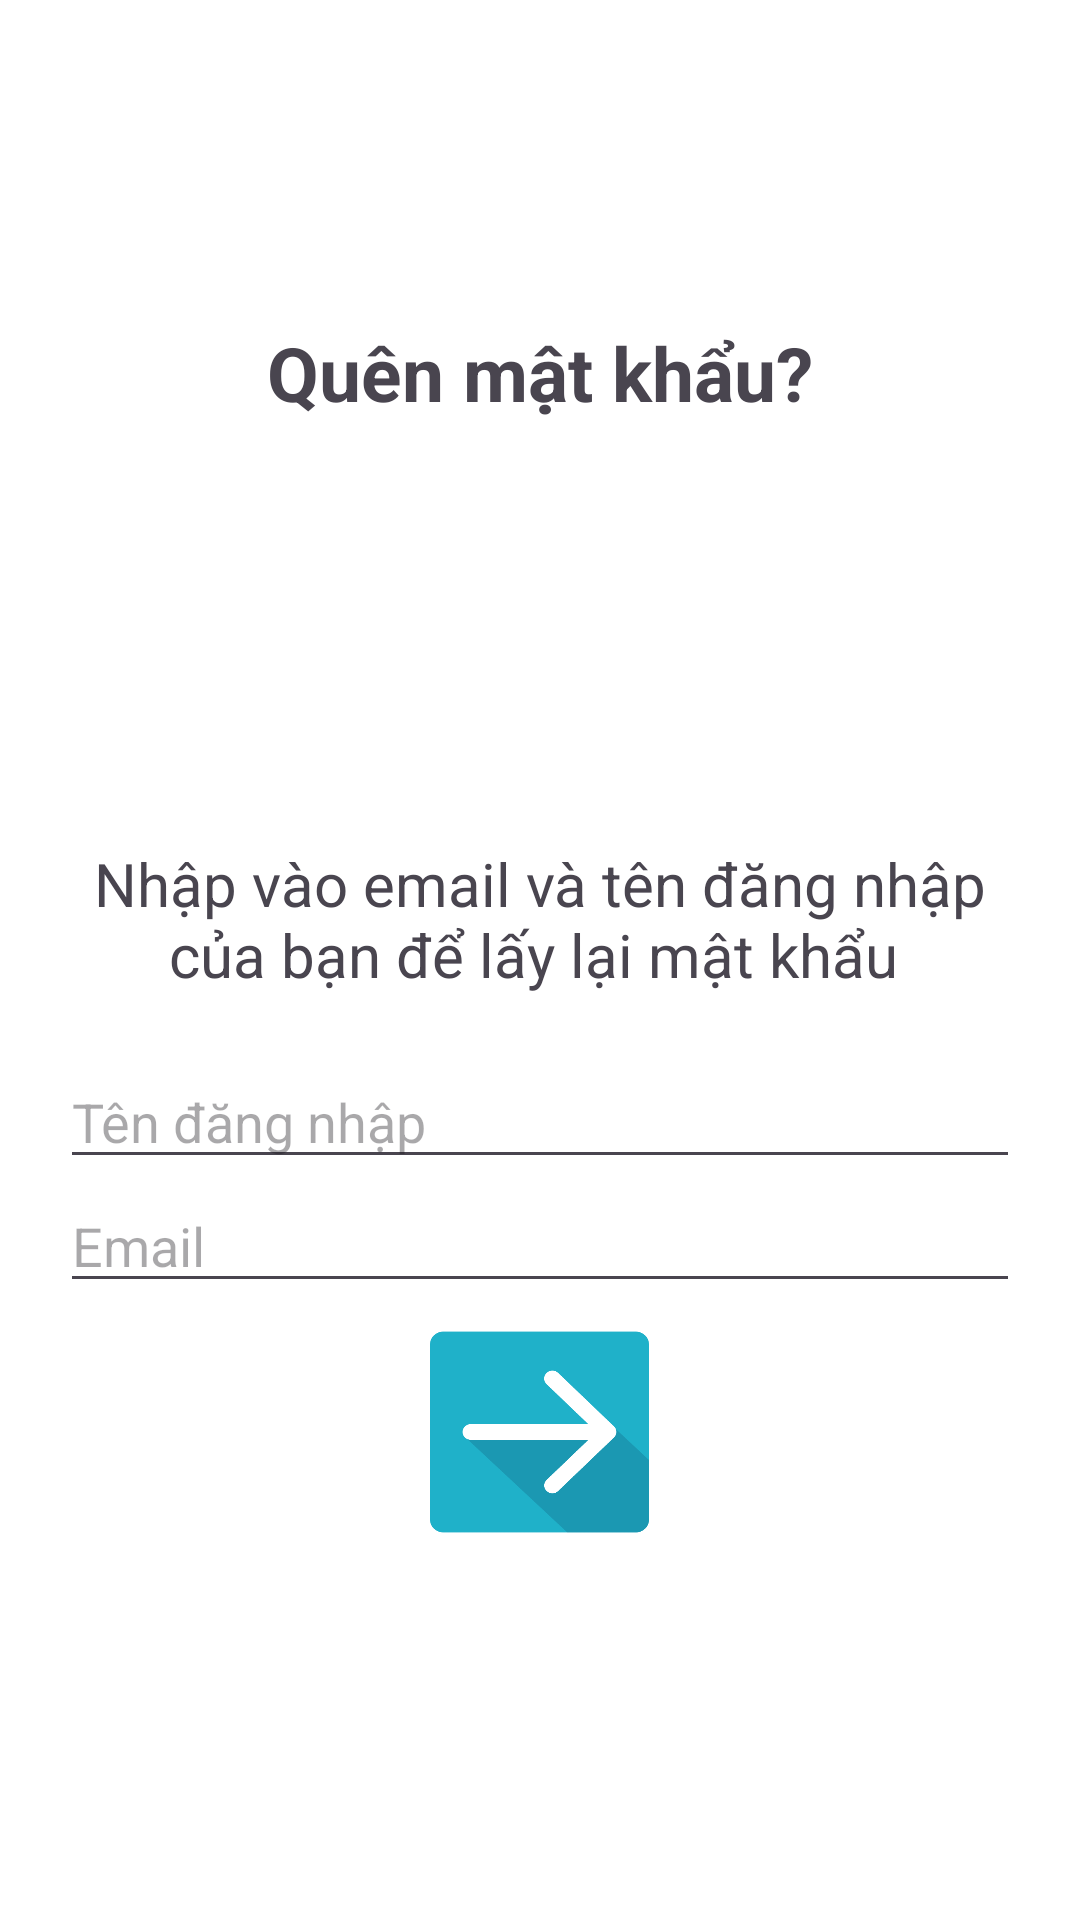

Locate icon controls on the screen. Image size 1080 x 1920, boxes as (x1, y1, x2, y2).
next: (430, 1331, 649, 1533)
